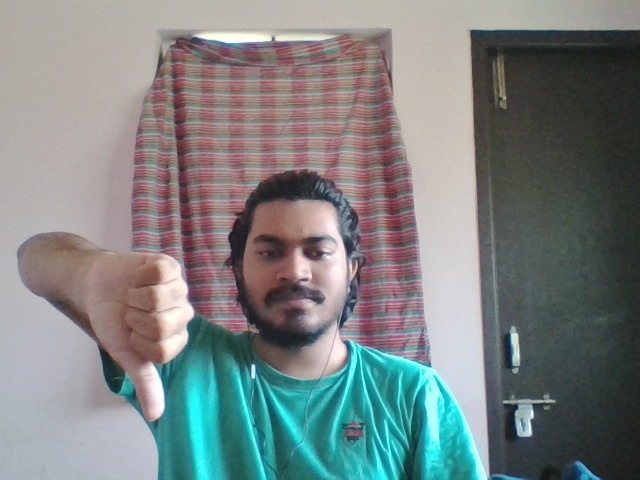ThumbsDown: (86, 252, 196, 421)
